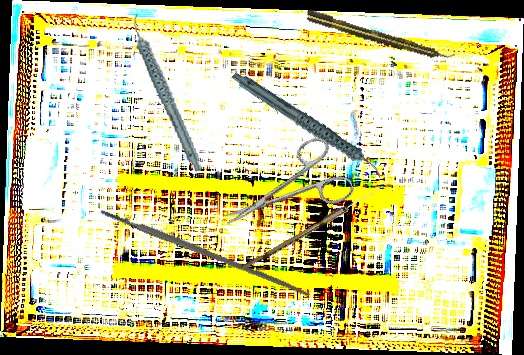Handpiece: (230, 45, 385, 206), (130, 6, 204, 179), (304, 7, 456, 67)
Iris Scissors: (209, 131, 357, 250)
Scalpel Handle: (99, 206, 312, 299)
Surgical Spoon: (240, 182, 385, 274)
